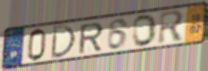0: (26, 28, 48, 63)
6: (106, 18, 130, 51)
D: (49, 24, 78, 60)
O: (132, 13, 158, 48)
R: (157, 9, 186, 46), (77, 21, 105, 55)
